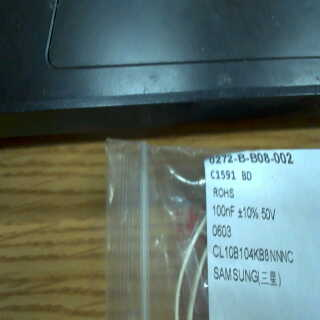100nF: (210, 203, 237, 220)
